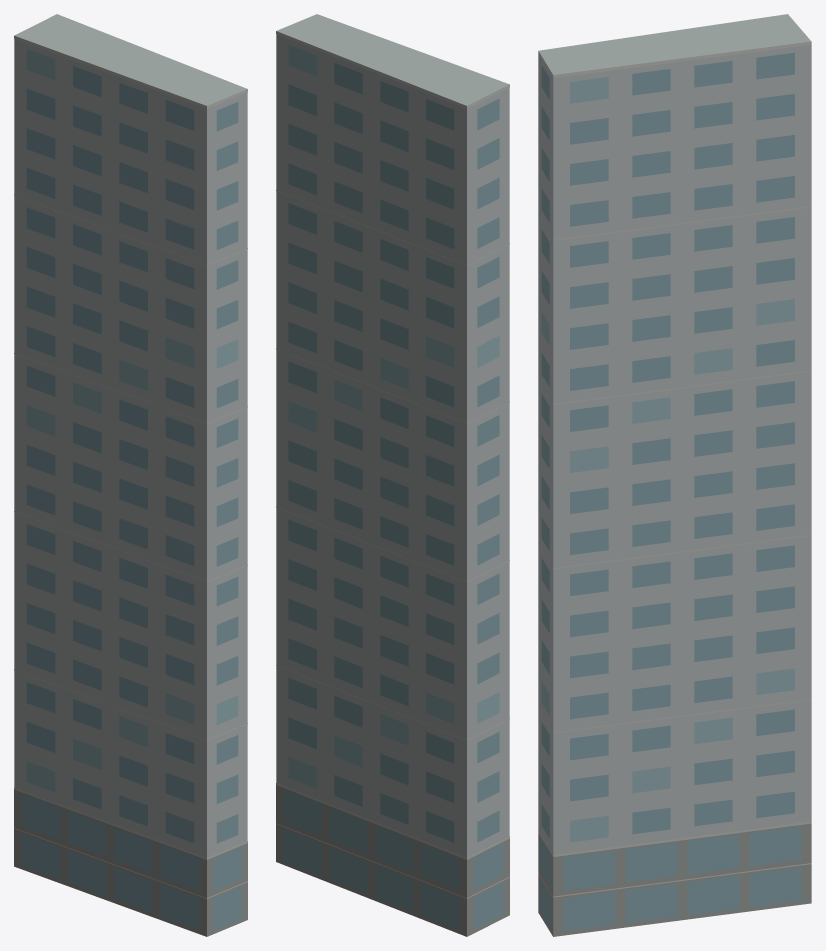
File: survey-upis-33007847.glb
3 views of the same model, side by side, from view 1: azimuth 30°, elevation 25°; view 2: azimuth 210°, elevation 25°; view 3: azimuth 270°, elevation 25° (orthographic). The views are drawn at different scales.
Visible parts, largest first — view 1: survey-upis-33007847.tmp; view 2: survey-upis-33007847.tmp; view 3: survey-upis-33007847.tmp.
Boxes of the visible parts, x1,y1,x2,y2 form: survey-upis-33007847.tmp: (14,14,247,936); survey-upis-33007847.tmp: (276,14,509,936); survey-upis-33007847.tmp: (538,14,811,936).
Size of the model in its own units: 9.75 by 64.05 by 18.43.
